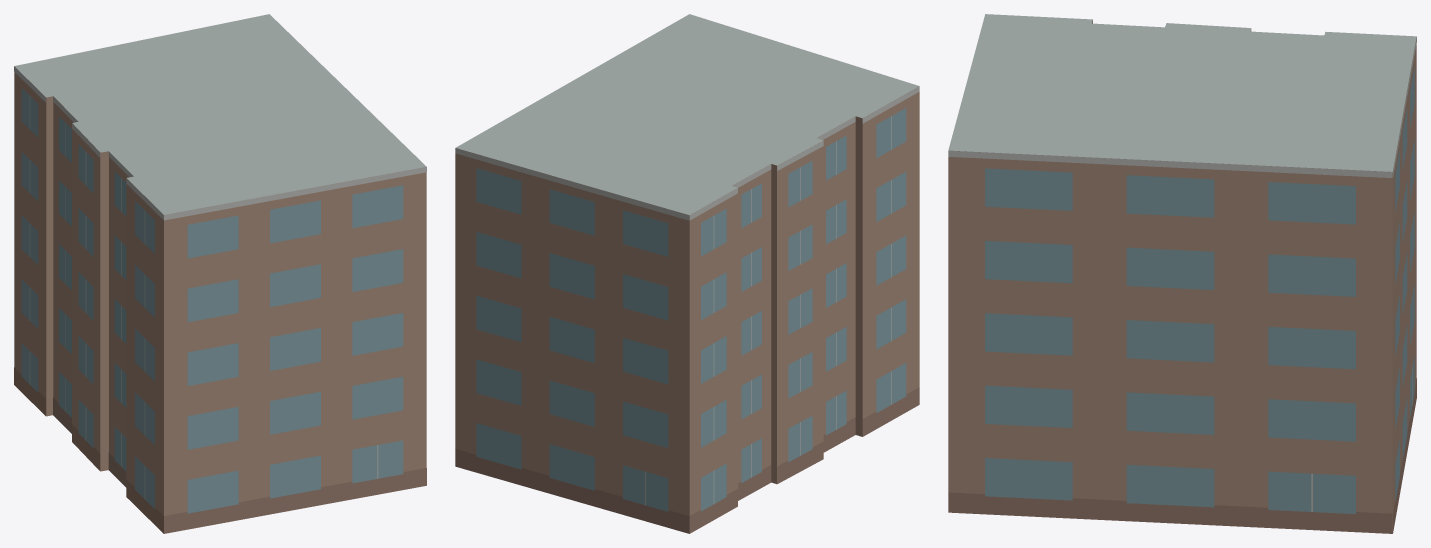
File: survey-upis-32868710.glb
The picture shows the model from 3 angles, left to right: view 1: azimuth 30°, elevation 25°; view 2: azimuth 150°, elevation 25°; view 3: azimuth 270°, elevation 25°; orthographic projection. The views are drawn at different scales.
Visible parts, largest first — view 1: survey-upis-32868710.tmp; view 2: survey-upis-32868710.tmp; view 3: survey-upis-32868710.tmp.
Part boxes in pixels (left/top/right/bottom): survey-upis-32868710.tmp: left=14, top=14, right=426, bottom=533; survey-upis-32868710.tmp: left=455, top=14, right=919, bottom=533; survey-upis-32868710.tmp: left=948, top=14, right=1416, bottom=533.
Bounding box in the file's own units: 13.2 × 14.1 × 16.55.
